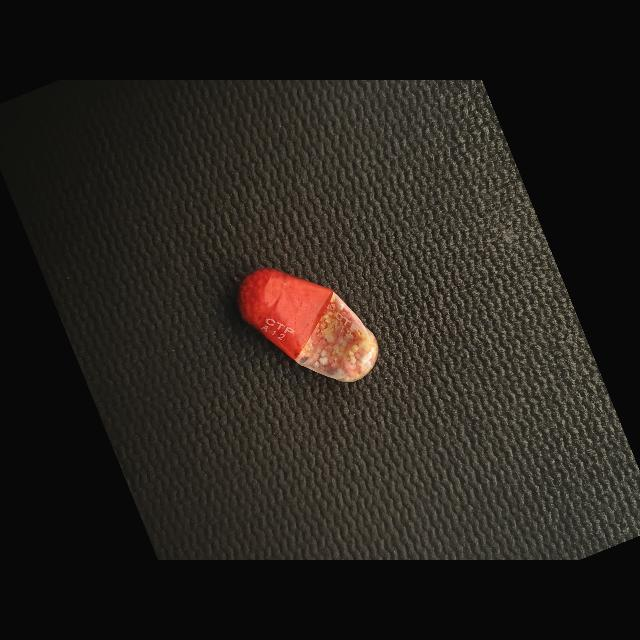Defective Capsule: (238, 268, 378, 383)
